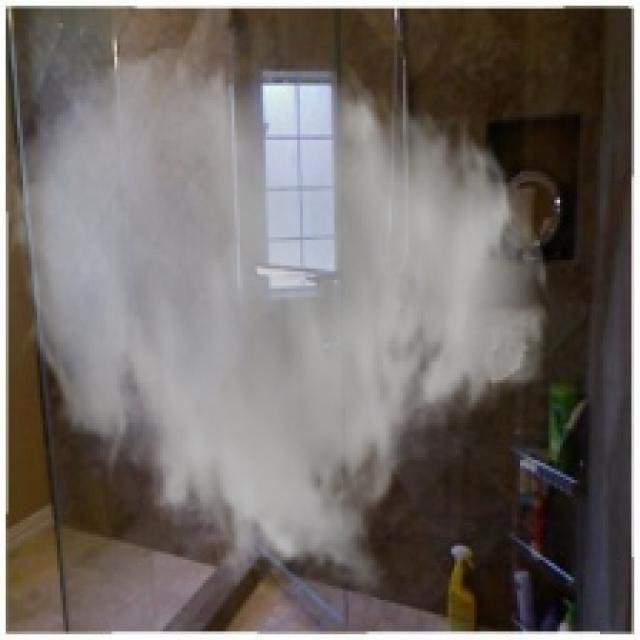Smoke: (0, 43, 555, 601)
